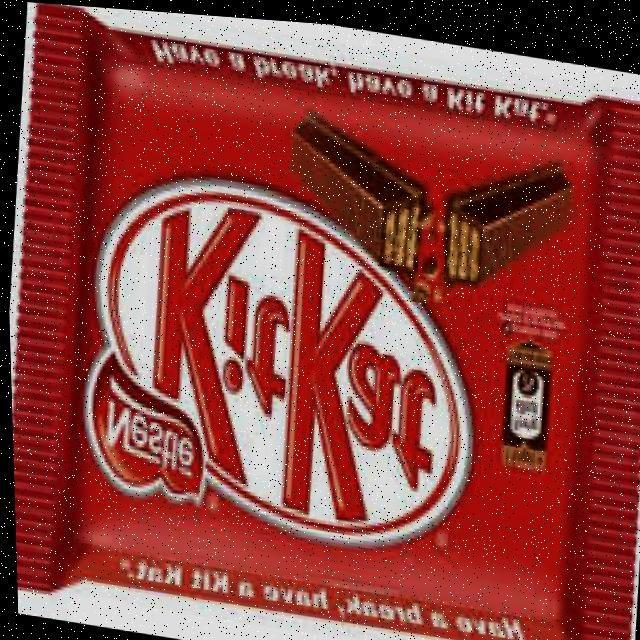kitkat_chocolate: (33, 11, 640, 639)
